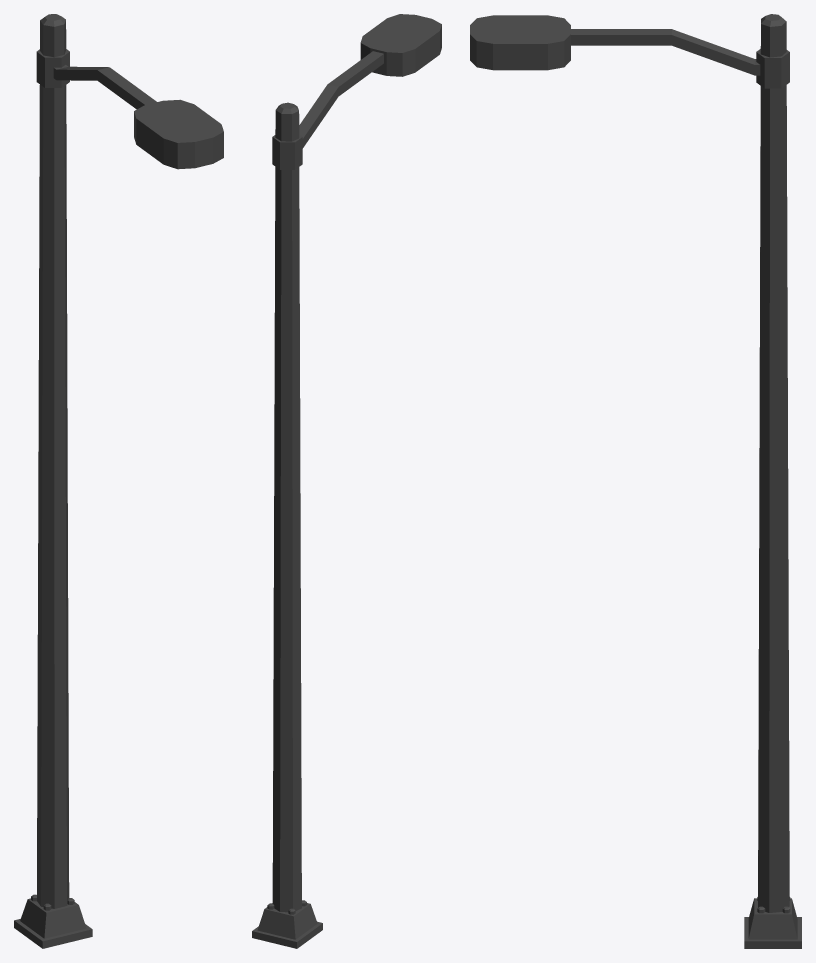
File: streetLamp1.fbx
3 views of the same model, side by side, from view 1: azimuth 30°, elevation 25°; view 2: azimuth 150°, elevation 25°; view 3: azimuth 270°, elevation 25° (orthographic). The views are drawn at different scales.
Parts seen in each view (by area): view 1: Cube.004; view 2: Cube.004; view 3: Cube.004.
Boxes of the visible parts, bbox=[...] form: Cube.004: bbox=[14, 14, 223, 948]; Cube.004: bbox=[252, 14, 441, 948]; Cube.004: bbox=[470, 14, 801, 948].
Bounding box in the file's own units: 40 × 603 × 197.
